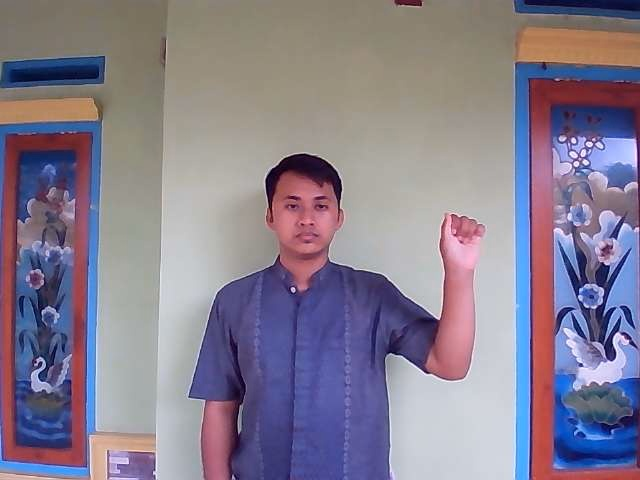A: (434, 208, 490, 278)
